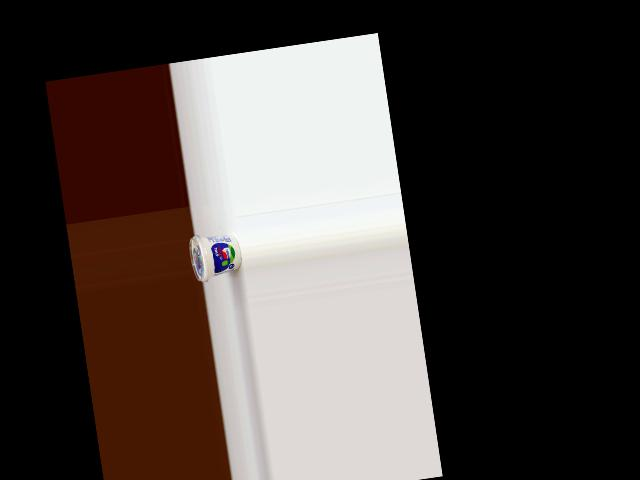cotage: (187, 227, 244, 283)
